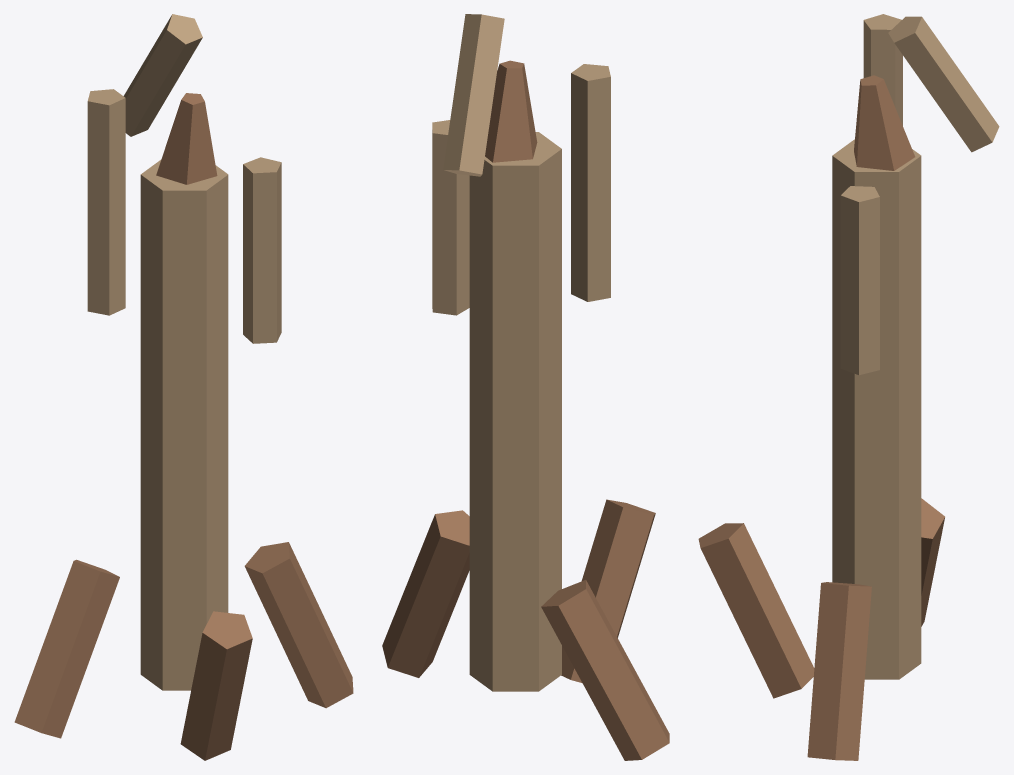
File: dead_tree.glb
3 views of the same model, side by side, from view 1: azimuth 30°, elevation 25°; view 2: azimuth 150°, elevation 25°; view 3: azimuth 270°, elevation 25° (orthographic). The views are drawn at different scales.
Visible parts, largest first — view 1: trunk, root_0, branch_0, root_1, root_2, branch_1, branch_2, snapped_top; view 2: trunk, root_0, branch_0, root_1, branch_2, branch_1, root_2, snapped_top; view 3: trunk, root_1, root_2, branch_1, branch_2, snapped_top, branch_0, root_0.
Boxes of the visible parts, left/top/right/bottom form: trunk: left=140, top=159, right=228, bottom=690; root_0: left=14, top=559, right=119, bottom=738; branch_0: left=87, top=89, right=125, bottom=315; root_1: left=244, top=542, right=353, bottom=708; root_2: left=180, top=611, right=252, bottom=760; branch_1: left=243, top=157, right=281, bottom=343; branch_2: left=123, top=14, right=202, bottom=136; snapped_top: left=156, top=93, right=217, bottom=184; trunk: left=469, top=132, right=561, bottom=691; root_0: left=541, top=580, right=669, bottom=760; branch_0: left=571, top=64, right=610, bottom=301; root_1: left=382, top=510, right=469, bottom=677; branch_2: left=443, top=14, right=504, bottom=176; branch_1: left=432, top=120, right=469, bottom=315; root_2: left=561, top=499, right=655, bottom=683; snapped_top: left=485, top=60, right=537, bottom=162; trunk: left=832, top=139, right=921, bottom=679; root_1: left=807, top=582, right=871, bottom=760; root_2: left=698, top=523, right=814, bottom=698; branch_1: left=840, top=186, right=879, bottom=375; branch_2: left=888, top=16, right=999, bottom=152; snapped_top: left=854, top=75, right=915, bottom=170; branch_0: left=863, top=14, right=902, bottom=125; root_0: left=921, top=498, right=944, bottom=626.
Size of the model in its own units: 1.13 by 2.4 by 0.9455.
